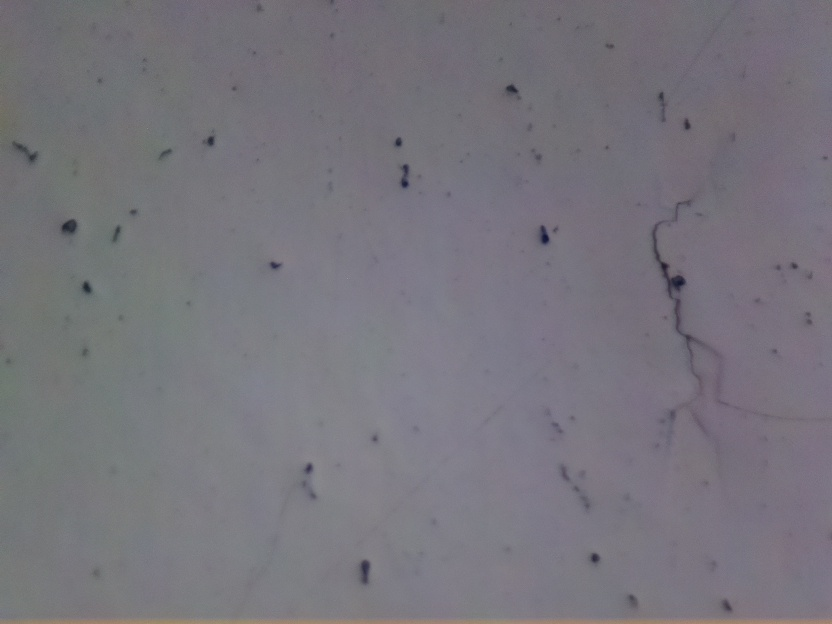crack: (642, 202, 696, 331)
